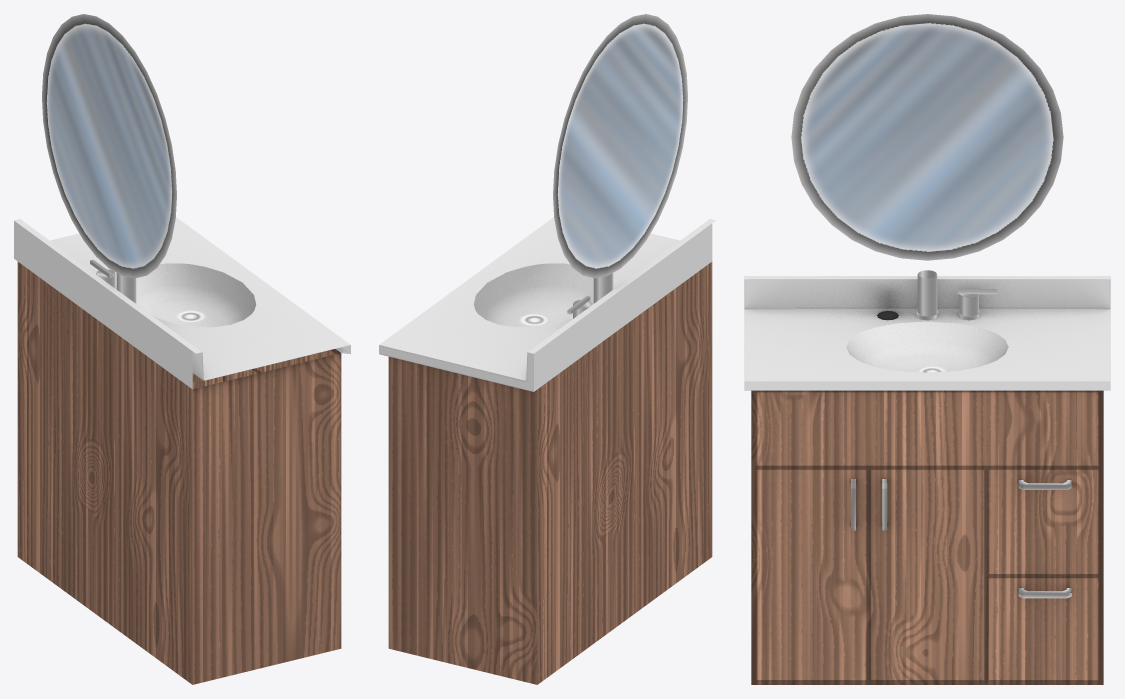
The model's file is chiuveta.glb.
The picture shows the model from 3 angles, left to right: view 1: azimuth 30°, elevation 25°; view 2: azimuth 150°, elevation 25°; view 3: azimuth 270°, elevation 25°; orthographic projection.
Visible parts, largest first — view 1: Object_66.001; view 2: Object_66.001; view 3: Object_66.001.
Part boxes in pixels (x1=…): Object_66.001: x1=14, y1=14, x2=350, y2=684; Object_66.001: x1=379, y1=14, x2=715, y2=684; Object_66.001: x1=744, y1=14, x2=1110, y2=684.
Size of the model in its own units: 0.3292 by 1.17 by 0.6483.
1 material, 1 textured.
